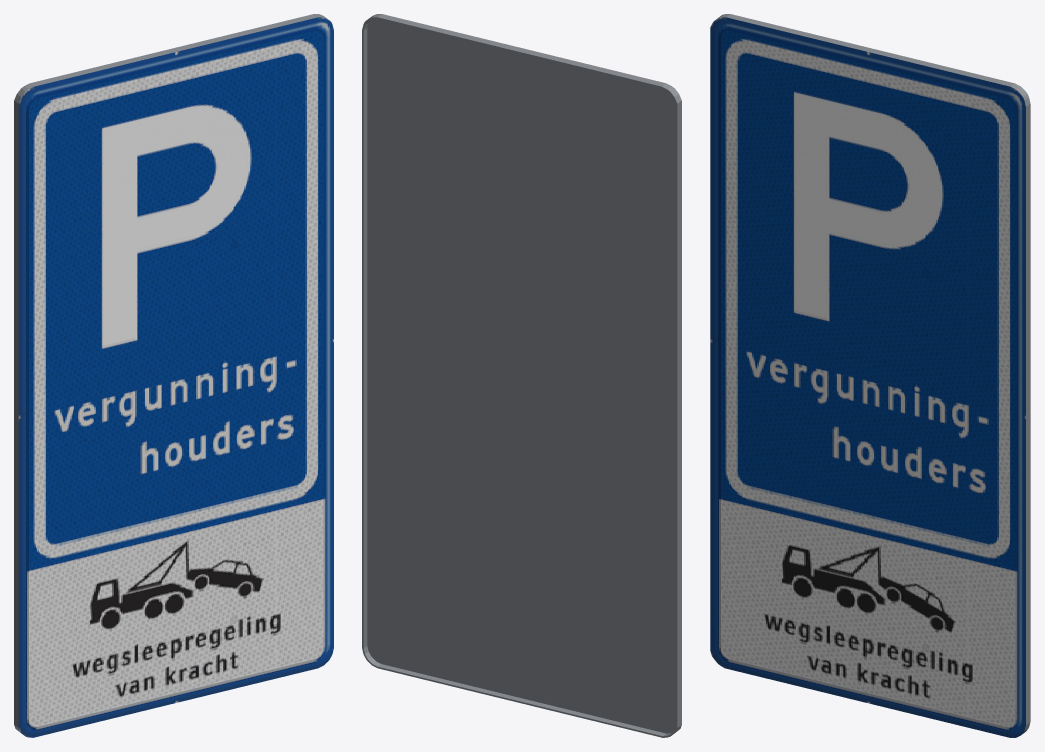
The picture shows the model from 3 angles, left to right: view 1: azimuth 30°, elevation 25°; view 2: azimuth 150°, elevation 25°; view 3: azimuth 330°, elevation 25°; orthographic projection.
Parts seen in each view (by area): view 1: cat_3c92281576c6a828; view 2: cat_3c92281576c6a828; view 3: cat_3c92281576c6a828.
Boxes of the visible parts, x1,y1,x2,y2 form: cat_3c92281576c6a828: (14, 14, 333, 737); cat_3c92281576c6a828: (362, 14, 681, 737); cat_3c92281576c6a828: (710, 14, 1030, 737).
Bounding box in the file's own units: 0.6 × 0.015 × 1.18.
2 materials, 1 textured.
